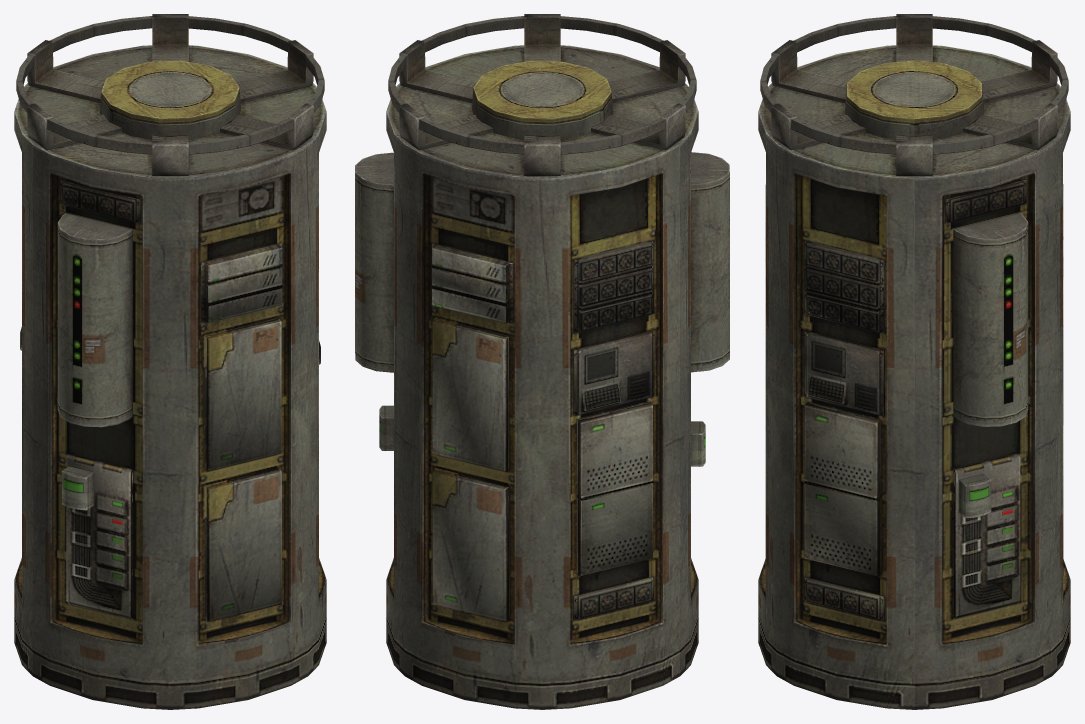
File: computer_cylinder_server.dae
The picture shows the model from 3 angles, left to right: view 1: azimuth 30°, elevation 25°; view 2: azimuth 150°, elevation 25°; view 3: azimuth 270°, elevation 25°; orthographic projection.
Parts seen in each view (by area): view 1: computer_cylinder_server; view 2: computer_cylinder_server; view 3: computer_cylinder_server.
Boxes of the visible parts, left/top/right/bottom form: computer_cylinder_server: left=14, top=14, right=326, bottom=709; computer_cylinder_server: left=355, top=14, right=729, bottom=709; computer_cylinder_server: left=758, top=14, right=1070, bottom=709.
Size of the model in its own units: 0.9597 by 1.78 by 0.8944.
